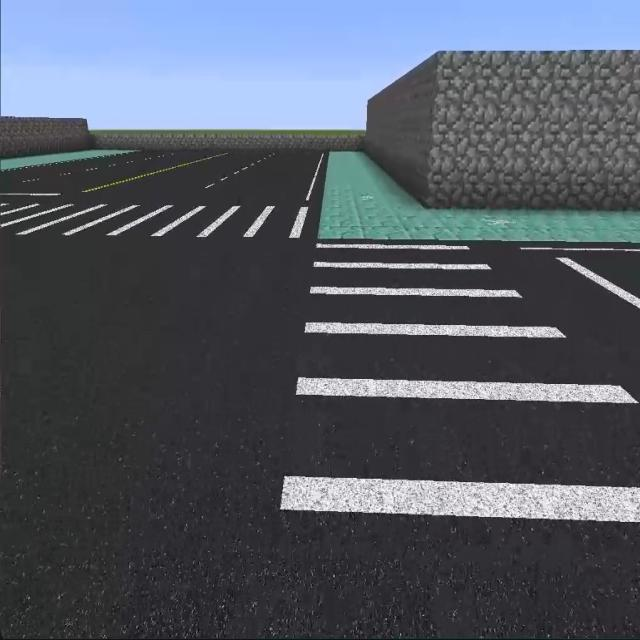crosswalk: (254, 244, 635, 625), (4, 195, 318, 245)
road: (8, 245, 306, 619), (493, 241, 635, 377), (4, 151, 327, 204)
sidewalk: (318, 151, 639, 242), (0, 150, 132, 170)
